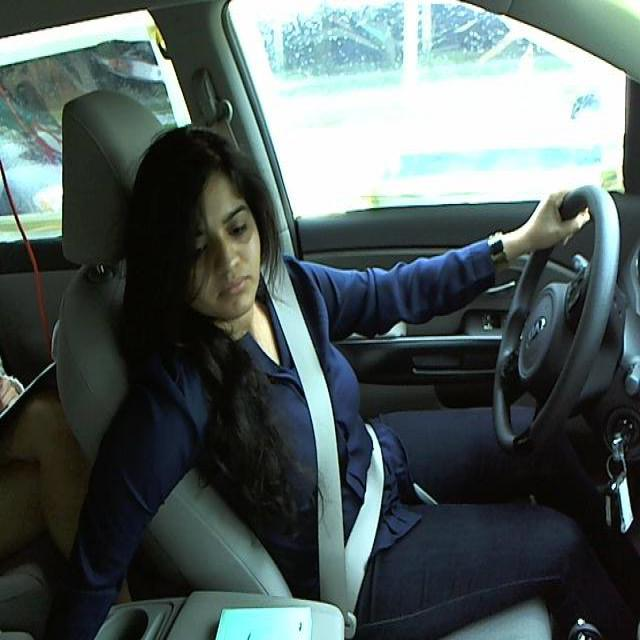seatbelt: (264, 276, 395, 604)
